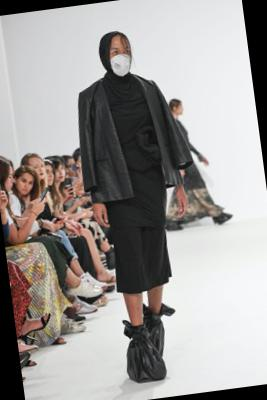with_mask: (108, 45, 135, 79)
without_mask: (16, 176, 37, 198), (2, 171, 17, 194), (31, 162, 47, 182), (54, 166, 66, 183), (45, 168, 56, 186), (68, 162, 79, 178), (178, 105, 185, 116)
